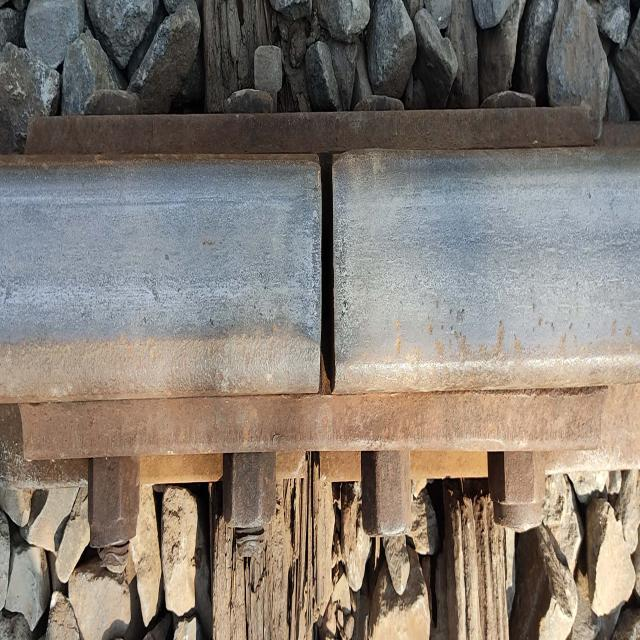Good Joint: (15, 41, 626, 564)
